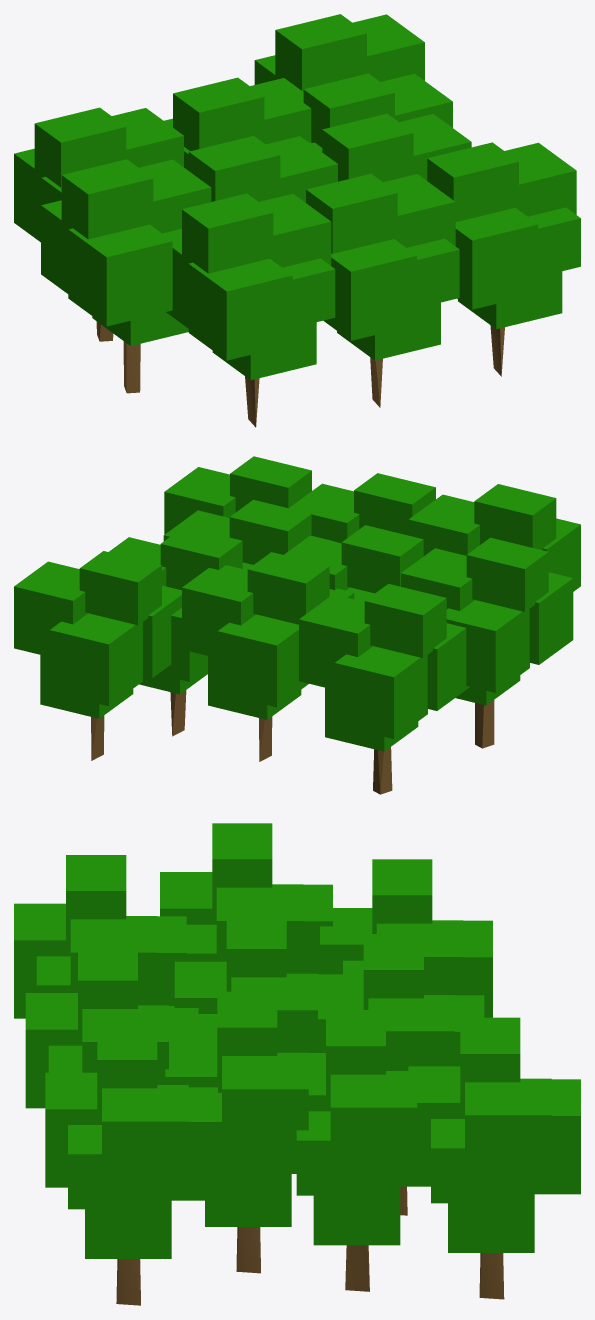
Rendered from GROUPTREES (1).fbx.
The picture shows the model from 3 angles, top to bottom: view 1: azimuth 30°, elevation 25°; view 2: azimuth 150°, elevation 25°; view 3: azimuth 270°, elevation 25°; orthographic projection. The views are drawn at different scales.
Visible parts, largest first — view 1: Cube.001; view 2: Cube.001; view 3: Cube.001.
Boxes of the visible parts, bbox=[...] form: Cube.001: bbox=[14, 14, 580, 427]; Cube.001: bbox=[14, 456, 580, 794]; Cube.001: bbox=[14, 823, 580, 1305].
Size of the model in its own units: 2349 by 1202 by 2245.
